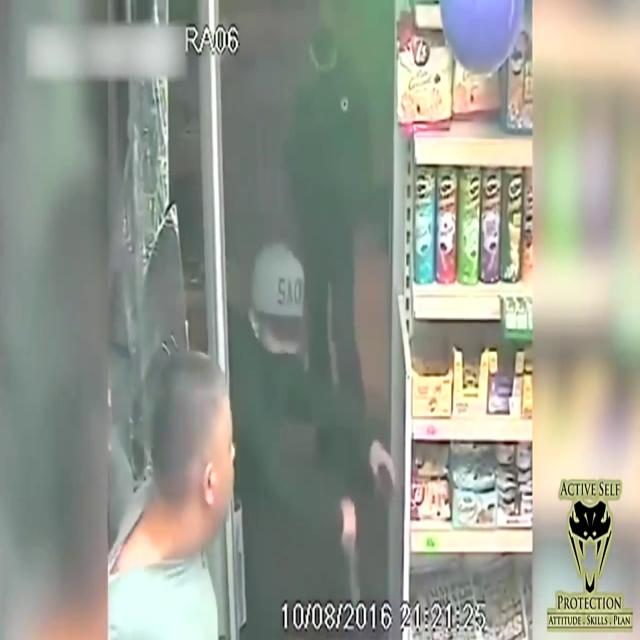Knife_Handle: (340, 495, 360, 600)
